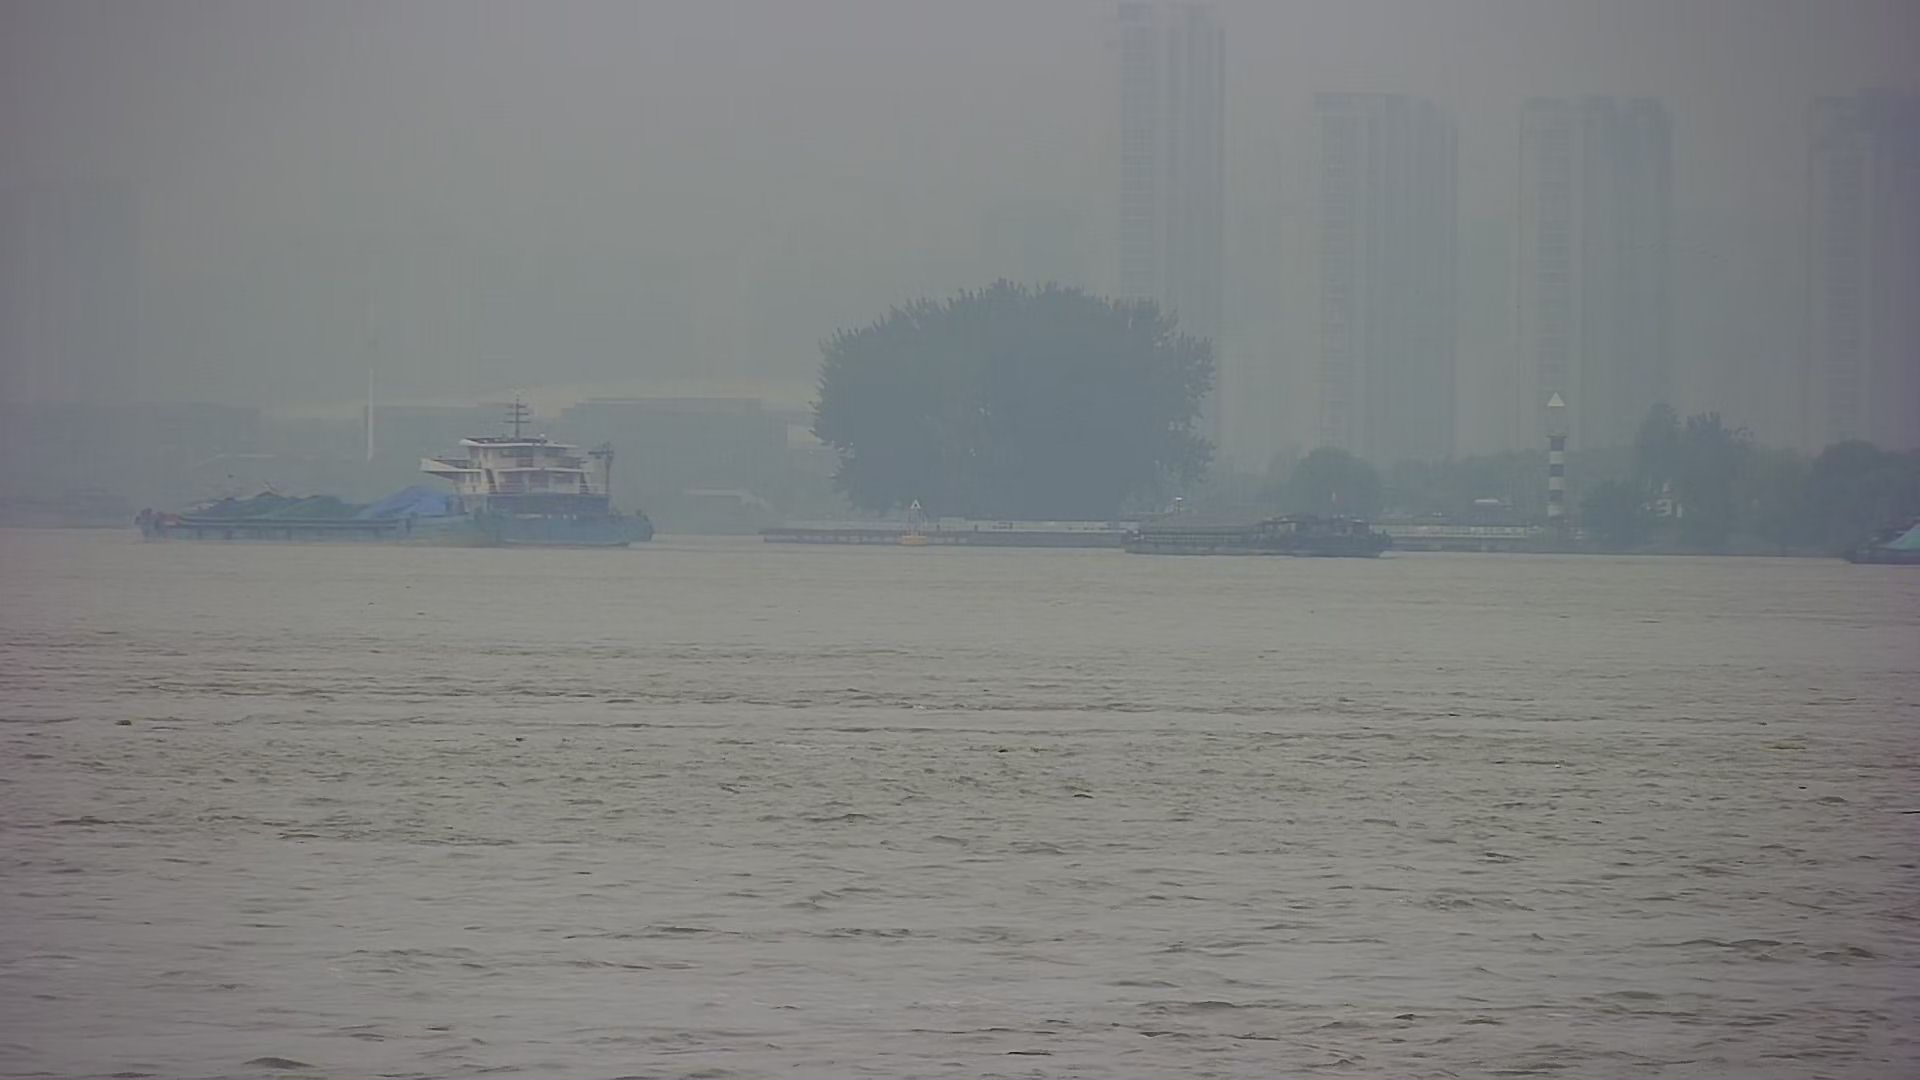ship: (116, 380, 667, 564), (1108, 496, 1400, 570)
